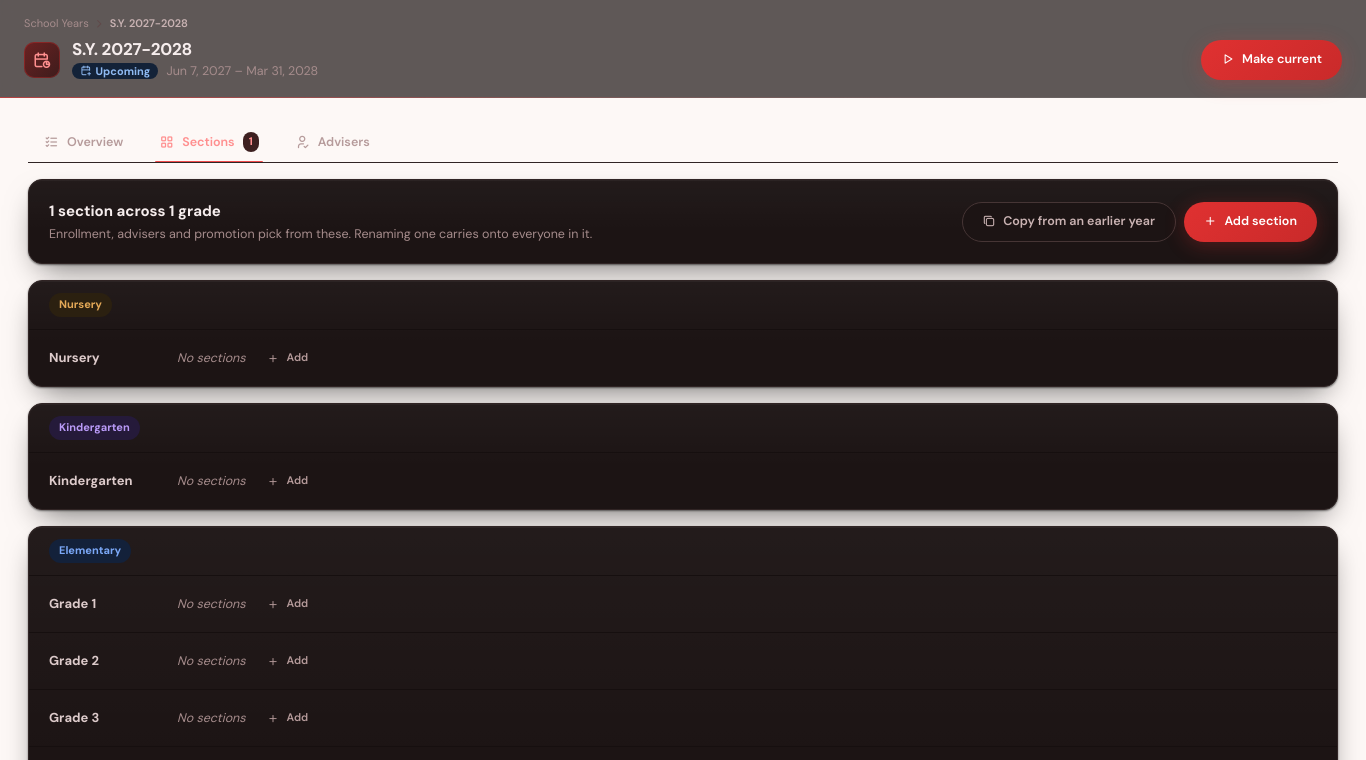
Test: SchoolYearDetailPage — dark mode › shows the sections and advisers tabs on a dark page
Click the tab "Advisers". click: (332, 142)
box: 279,123 -> 386,162
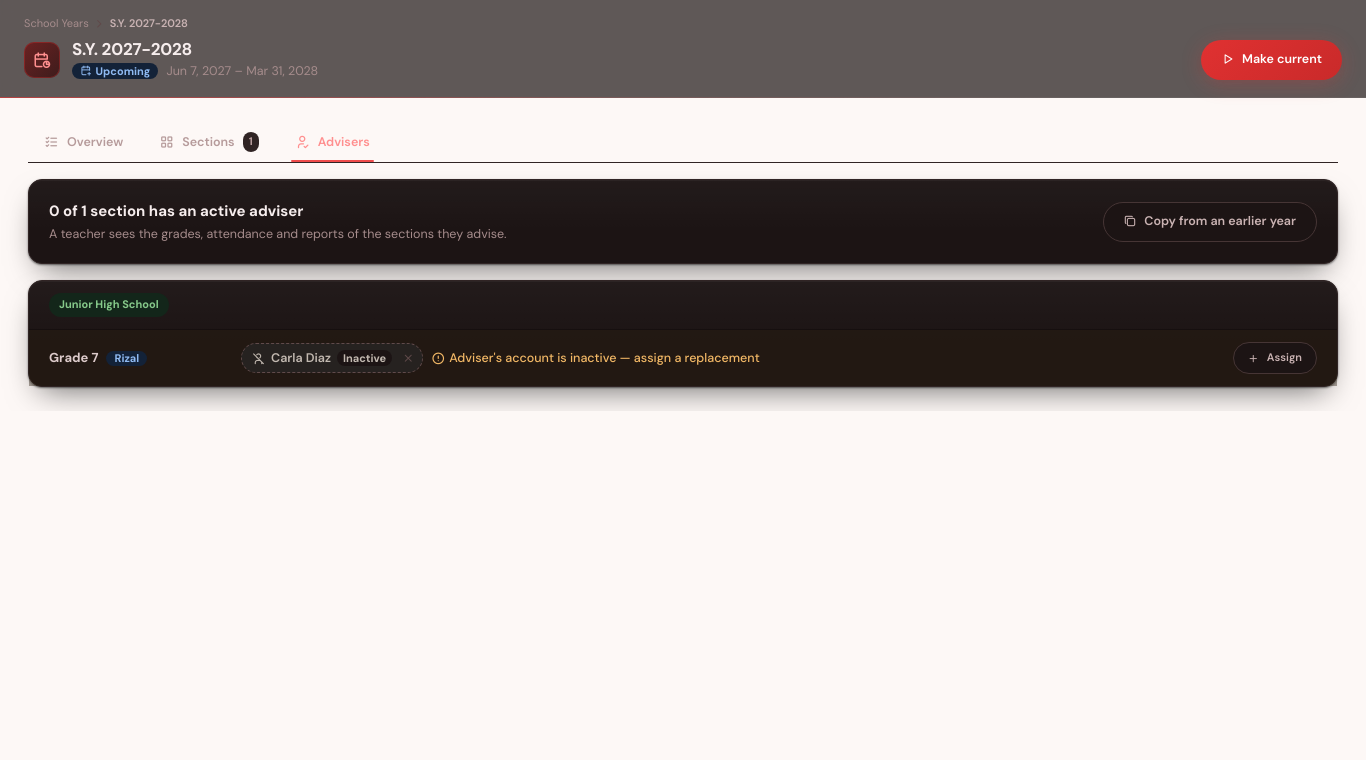
Result: the text "Carla Diaz" is shown at 271,350 -> 331,366
Result: the text "Inactive" is shown at 337,350 -> 392,366
